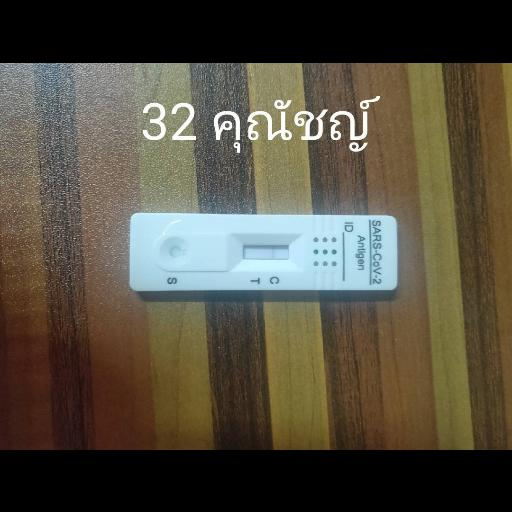Neg: (130, 210, 398, 288)
